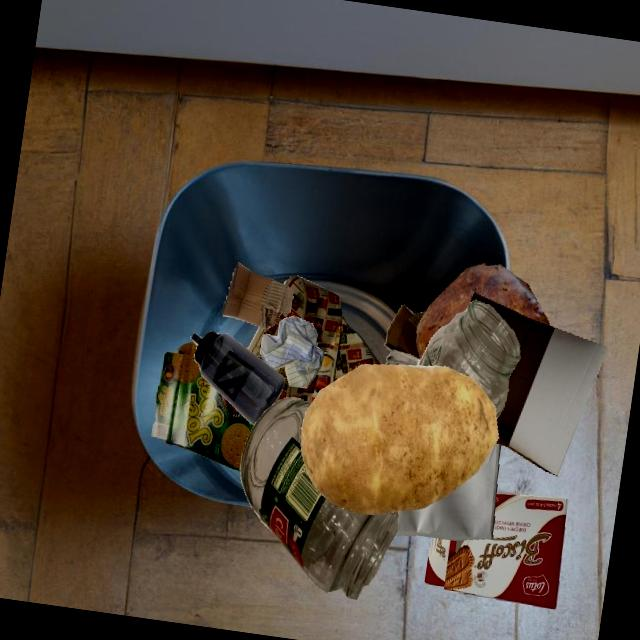biowaste: (301, 364, 498, 515), (416, 263, 550, 359)
cardboard: (470, 293, 608, 476), (425, 494, 568, 609), (152, 342, 254, 472), (222, 262, 293, 330), (385, 305, 426, 359)
glass: (240, 397, 398, 600), (418, 300, 520, 419), (385, 349, 421, 366)
paper: (247, 276, 381, 404), (395, 442, 500, 540), (260, 316, 325, 388)
plastic: (190, 331, 285, 425)
